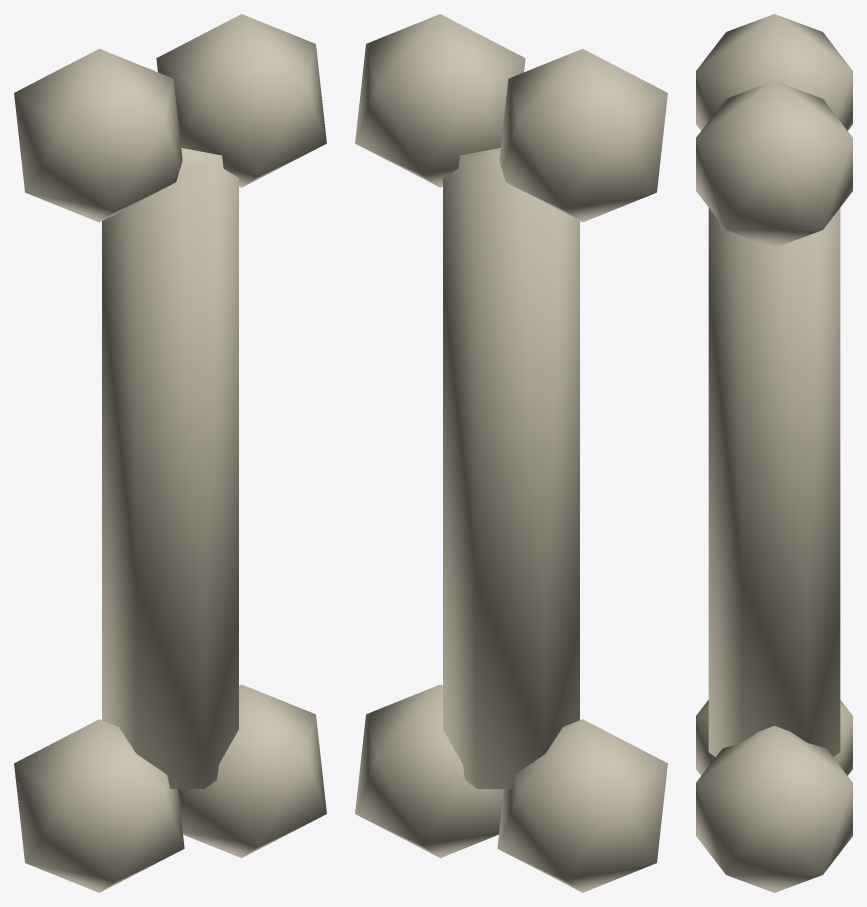
File: bloody_spine.glb
3 views of the same model, side by side, from view 1: azimuth 30°, elevation 25°; view 2: azimuth 150°, elevation 25°; view 3: azimuth 270°, elevation 25° (orthographic). The views are drawn at different scales.
Visible parts, largest first — view 1: bloody_spine_v0; view 2: bloody_spine_v0; view 3: bloody_spine_v0.
Part boxes in pixels (x1,y1,x2,y2): bloody_spine_v0: [14, 14, 326, 892]; bloody_spine_v0: [355, 14, 667, 892]; bloody_spine_v0: [696, 14, 852, 892].
Size of the model in its own units: 0.1226 by 0.34 by 0.0595.
